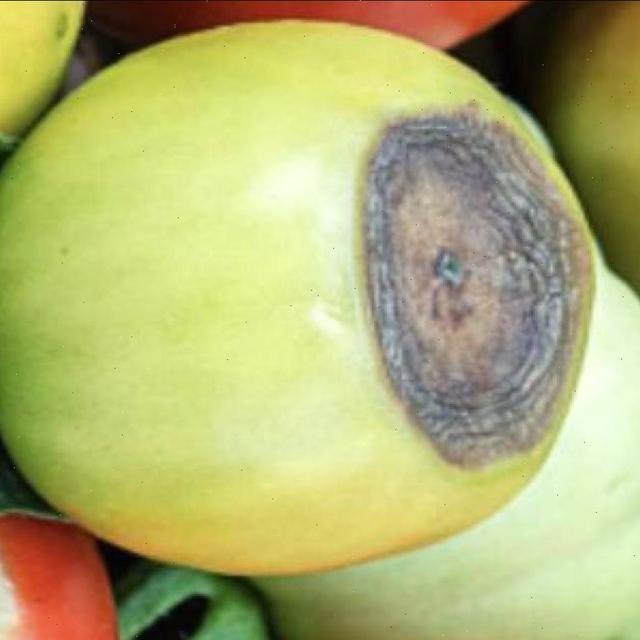Blossom End Rot Fruit: (243, 70, 396, 316)
